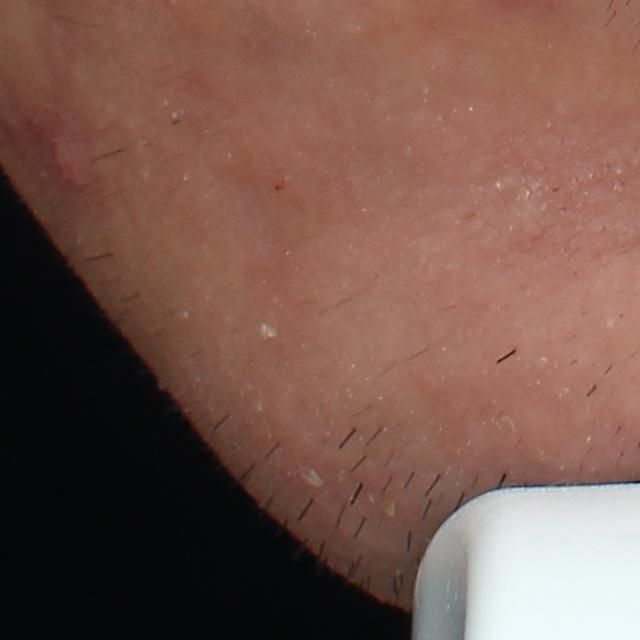hypertrophic_scar: (495, 175, 550, 243)
other: (255, 323, 281, 344)
papule: (39, 127, 96, 208)
